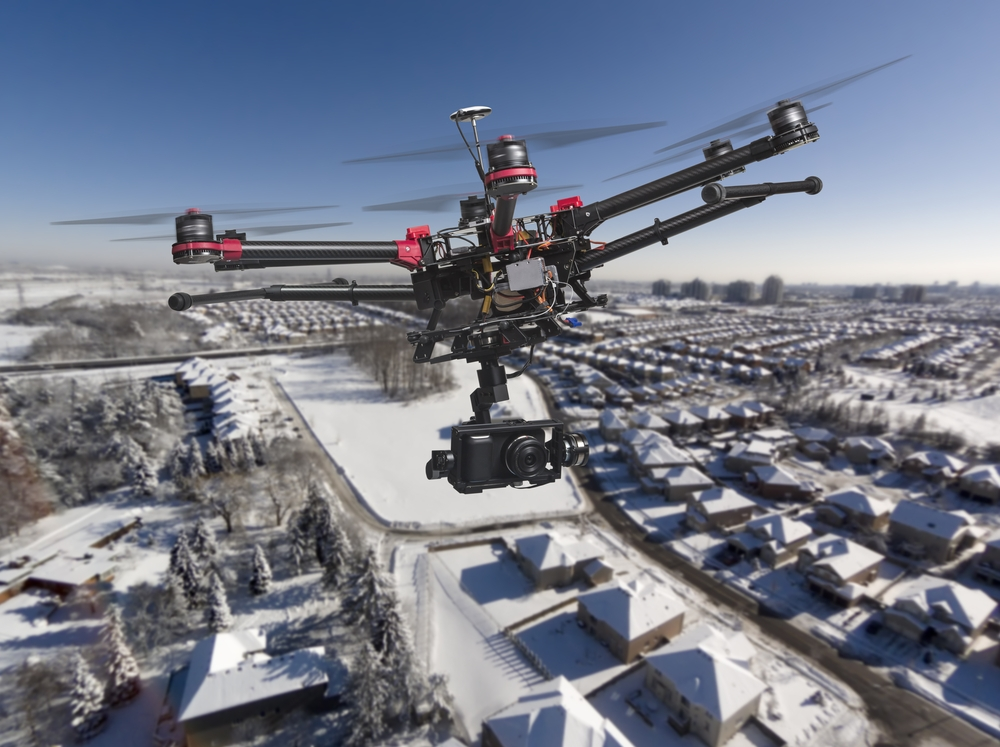drone: (47, 55, 910, 496)
